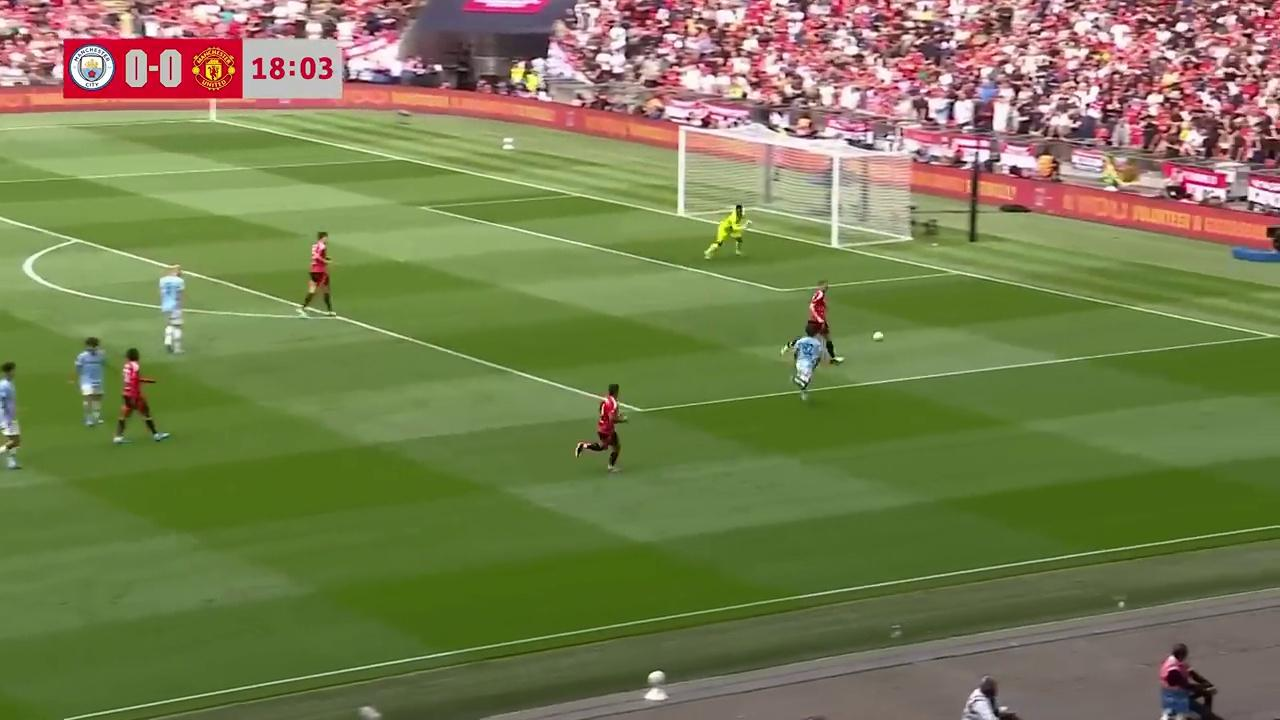ball: (870, 327, 886, 343)
player: (111, 349, 169, 445), (572, 384, 626, 475), (70, 336, 106, 426), (781, 326, 822, 401), (806, 280, 843, 362), (300, 232, 335, 317), (157, 263, 185, 353), (705, 203, 746, 260), (0, 361, 21, 470)
